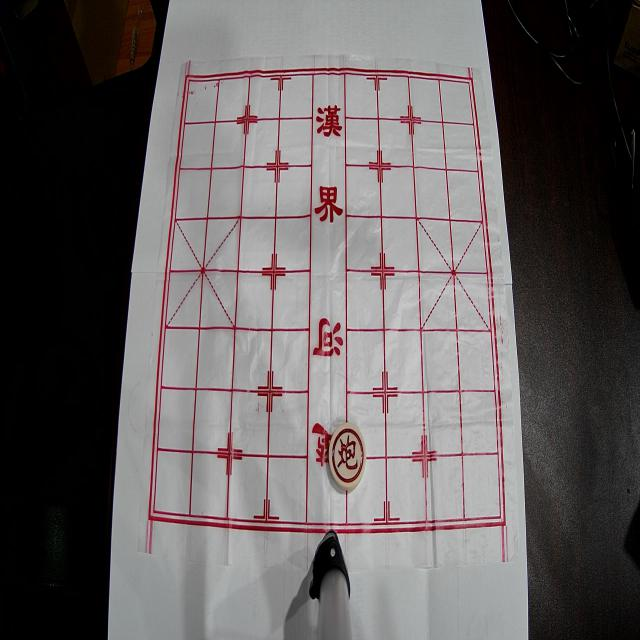red-cannon: (329, 422, 366, 490)
